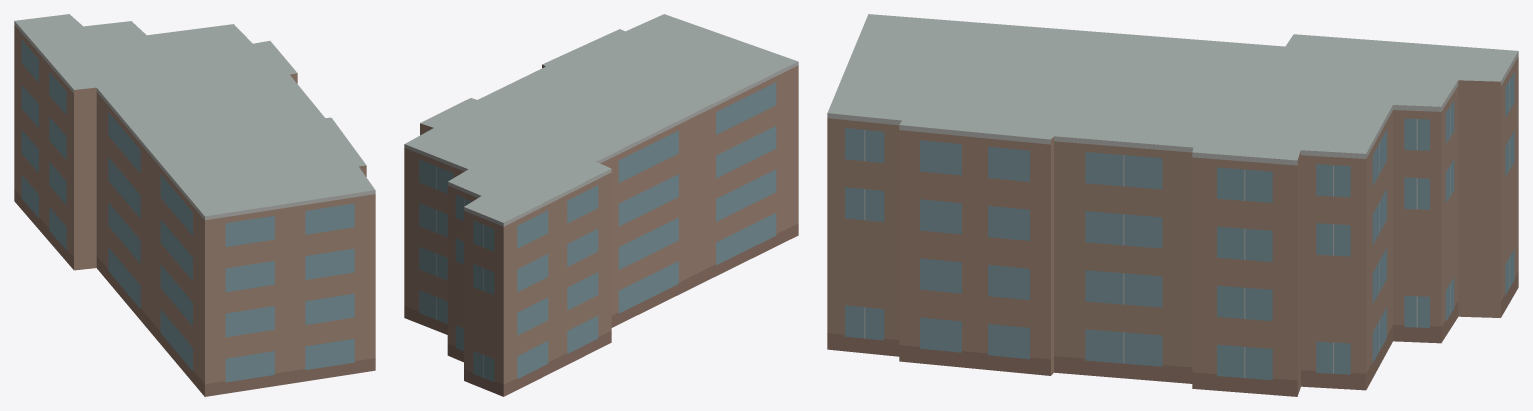
File: survey-upis-32935868.glb
3 renders of one model, left to right at view 1: azimuth 30°, elevation 25°; view 2: azimuth 150°, elevation 25°; view 3: azimuth 270°, elevation 25°, orthographic. The views are drawn at different scales.
Visible parts, largest first — view 1: survey-upis-32935868.tmp; view 2: survey-upis-32935868.tmp; view 3: survey-upis-32935868.tmp.
Part boxes in pixels (x1,y1,x2,y2): survey-upis-32935868.tmp: (14,14,375,396); survey-upis-32935868.tmp: (404,14,798,396); survey-upis-32935868.tmp: (827,14,1518,396).
Bounding box in the file's own units: 15.16 × 11.4 × 30.22.
